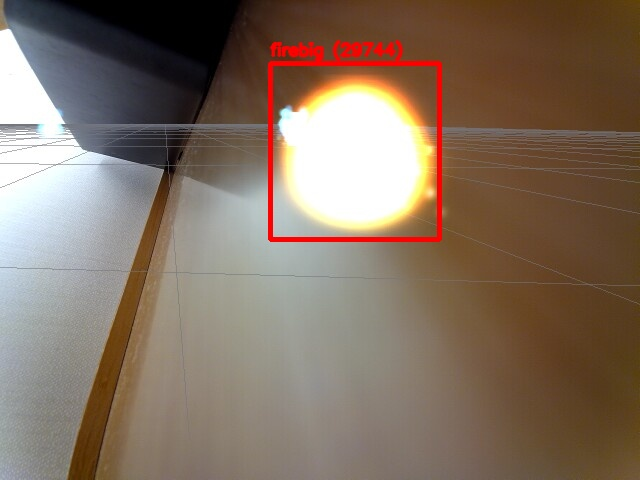firebig: (270, 63, 439, 239)
